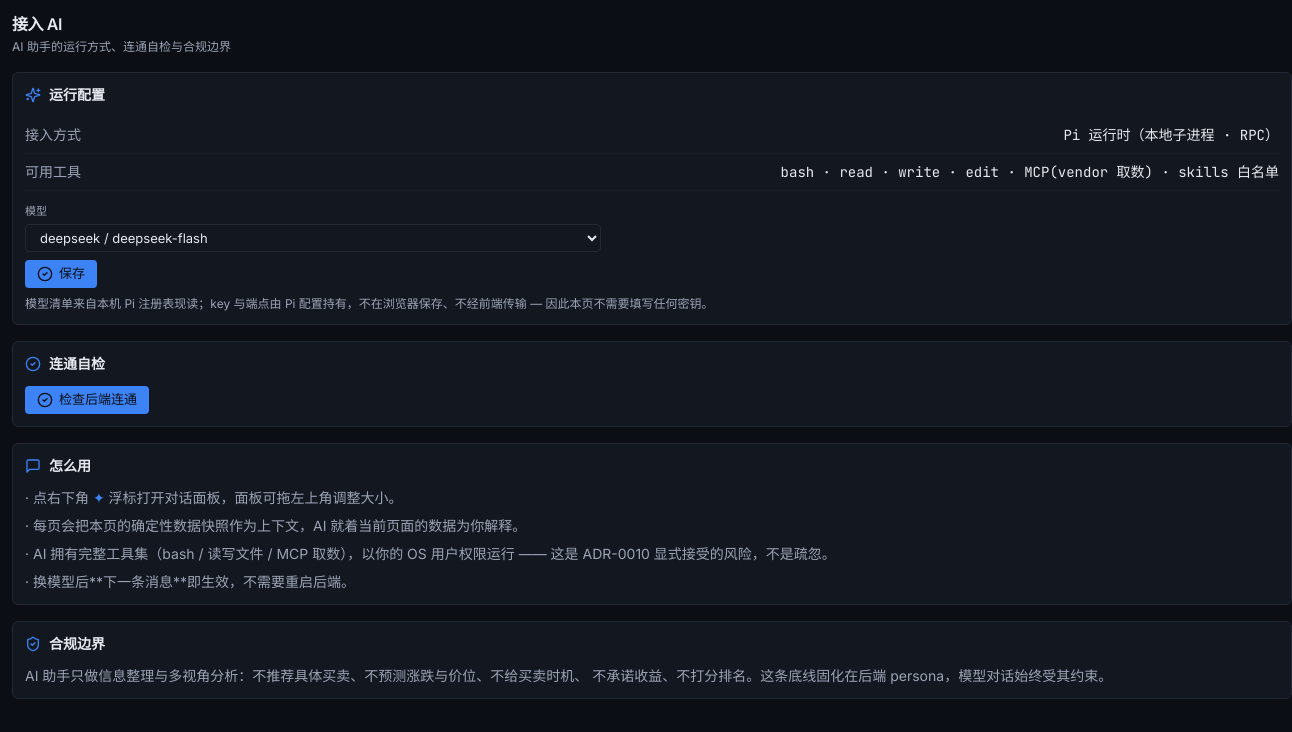
A3 模型选择器 › 选择模型并保存 → 调 settingsApi.setModel(选项 id)，成功提示下一条消息生效
This screenshot has width=1292, height=732.
Select "openrouter / z-ai/glm-5" in the dropdown labelled "模型" at (313, 238), box [25,224,601,252]
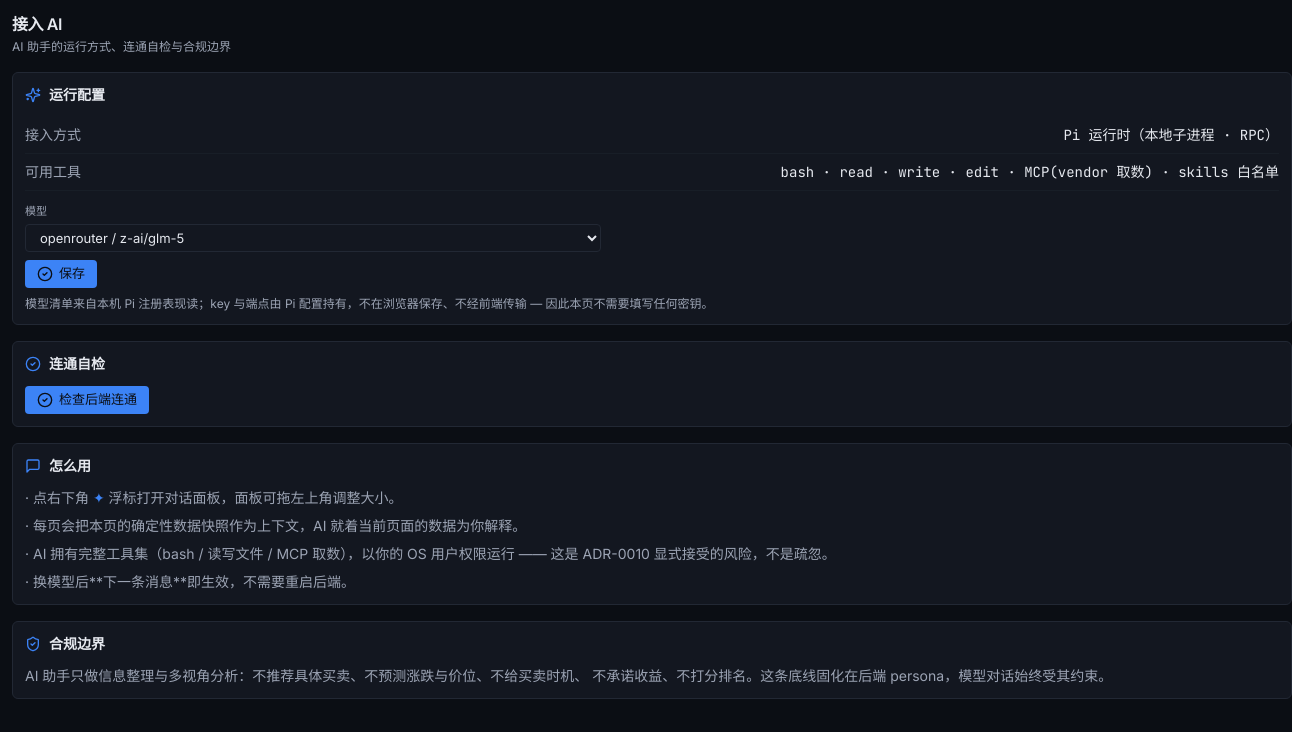
Click the button "保存" at (61, 274), box [25,260,97,288]
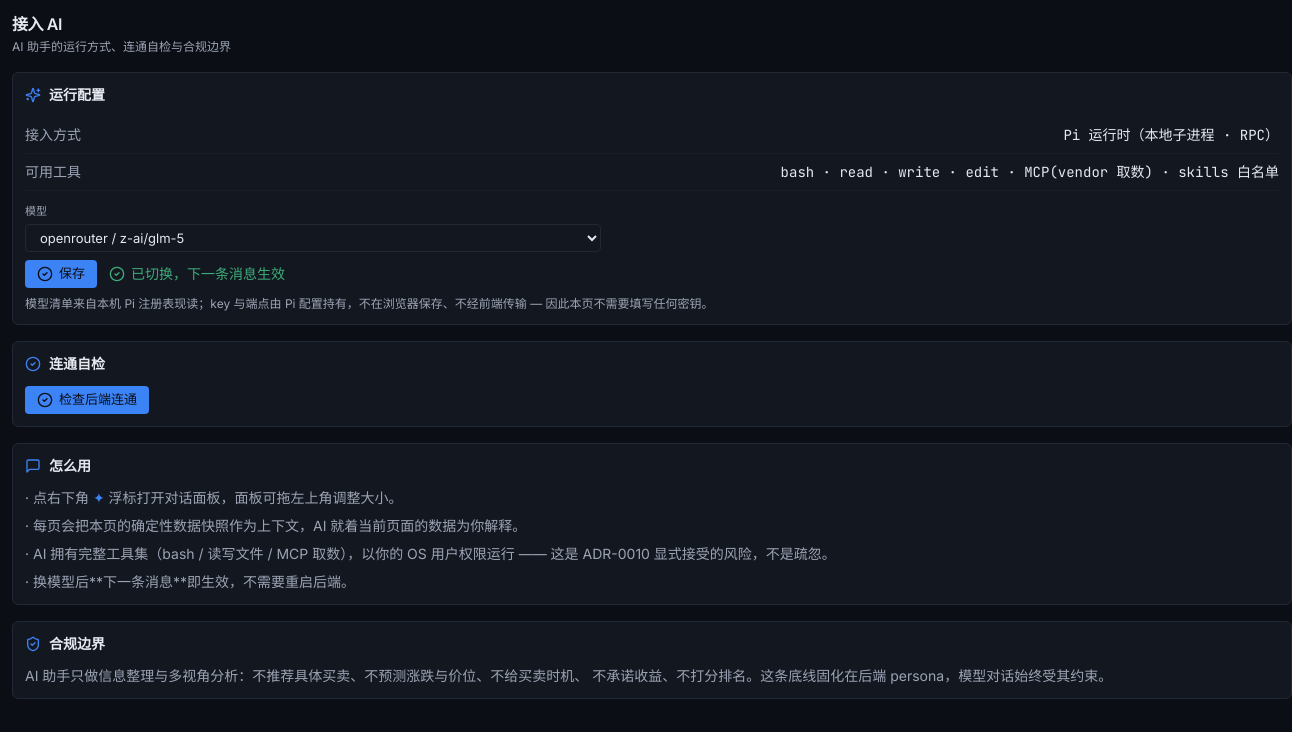
Now the text "已切换，下一条消息生效" is shown, box [109,264,285,284]
